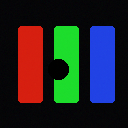2 circle: (48, 59, 68, 79)
